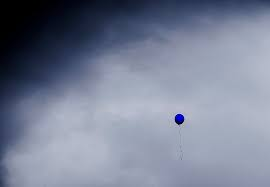Balloon: (174, 113, 185, 125)
